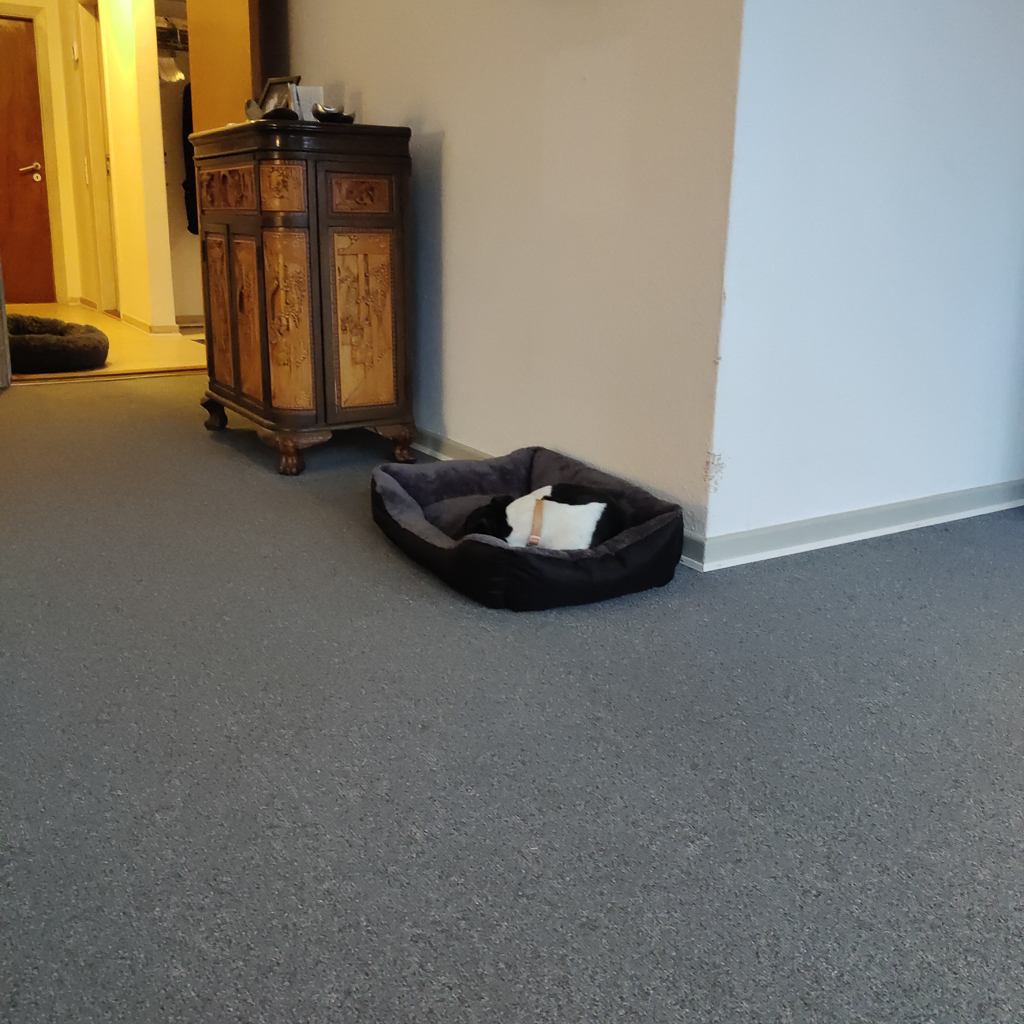Dog: (411, 470, 692, 569)
